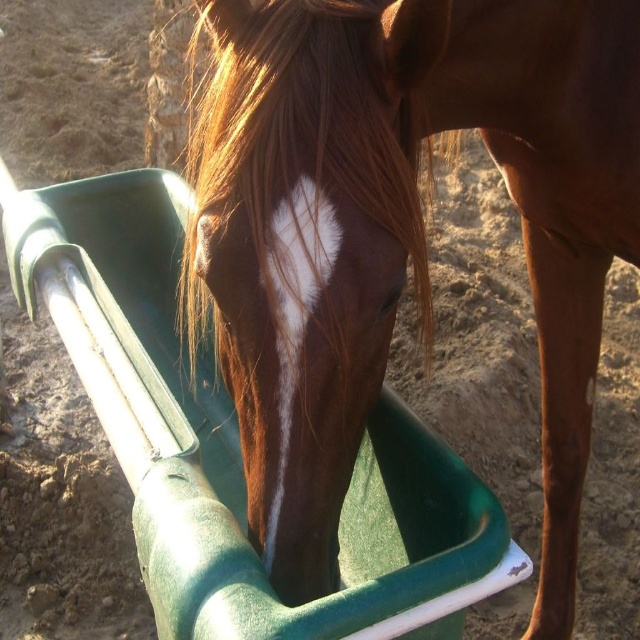Horse: (153, 0, 640, 640)
